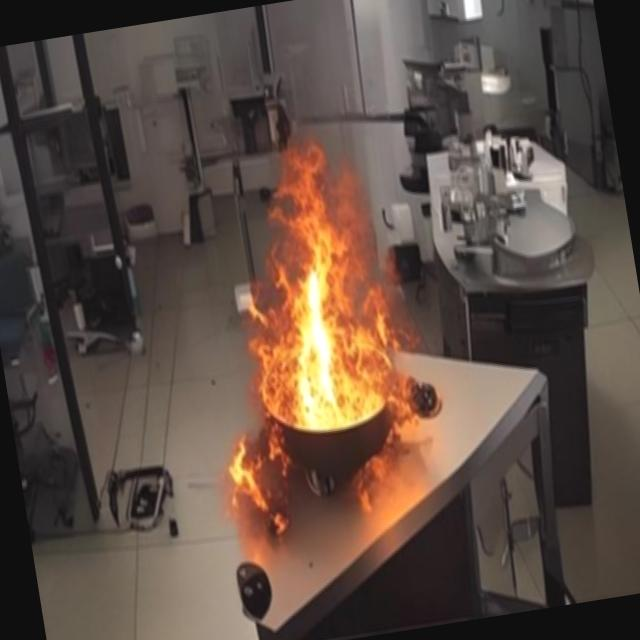fire: (186, 107, 452, 554)
